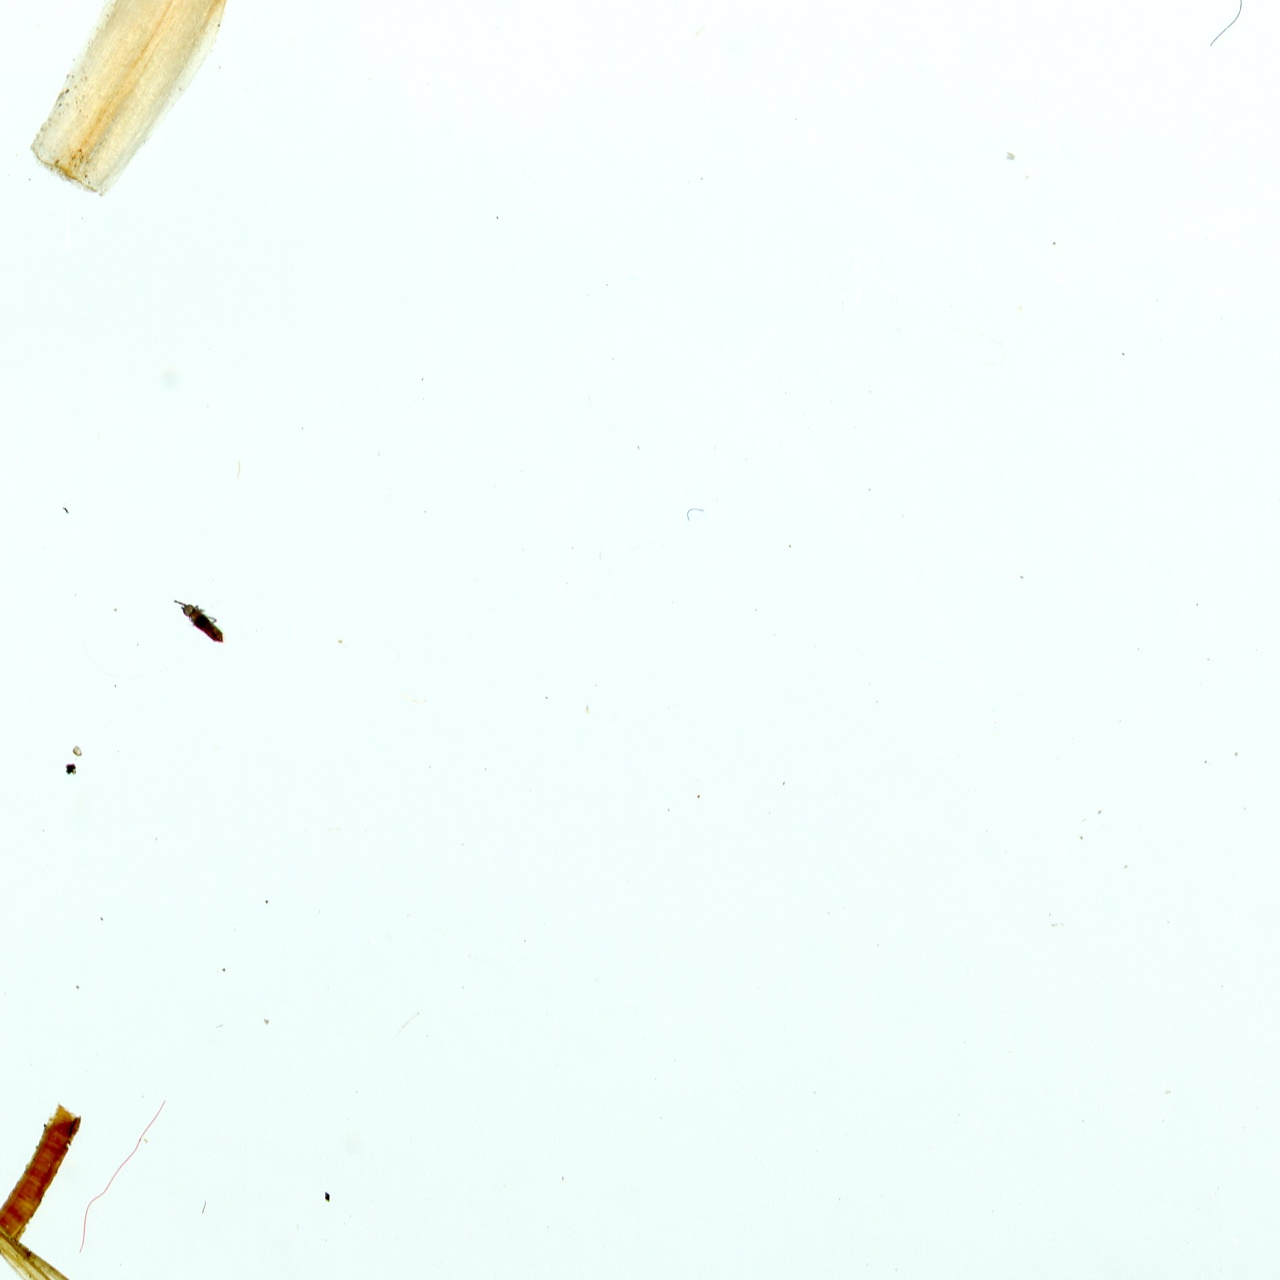arthropod: (157, 582, 248, 660)
